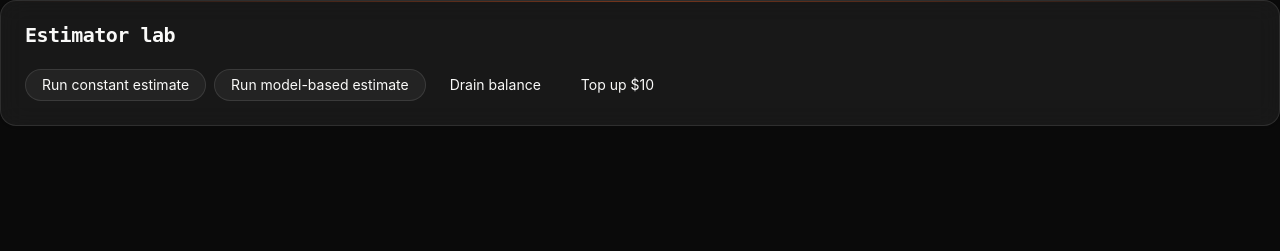
LabRunner › normalizes a non-ApiError drain rejection
Step 1. Click the button "Drain balance" → [495, 85], box [434,69,557,101]
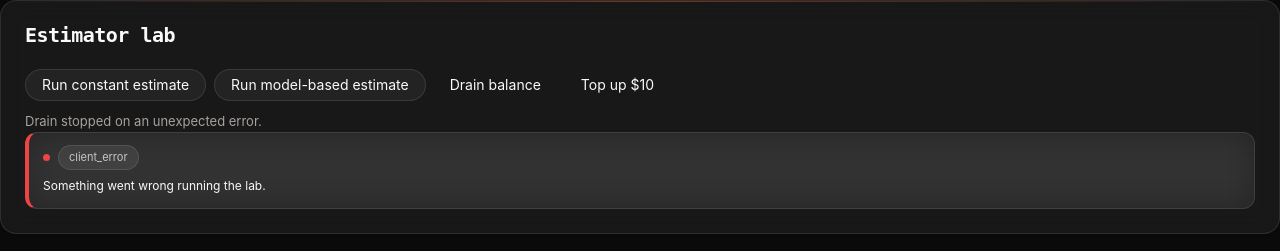
expect the text "Drain stopped on an unexpected error." is shown: met, box [25,113,262,129]
expect the message shows "Something went wrong running the lab.": met, box [43,178,266,193]
